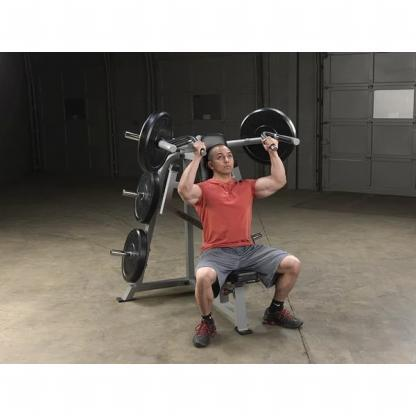shoulder press machine: (64, 41, 358, 370)
